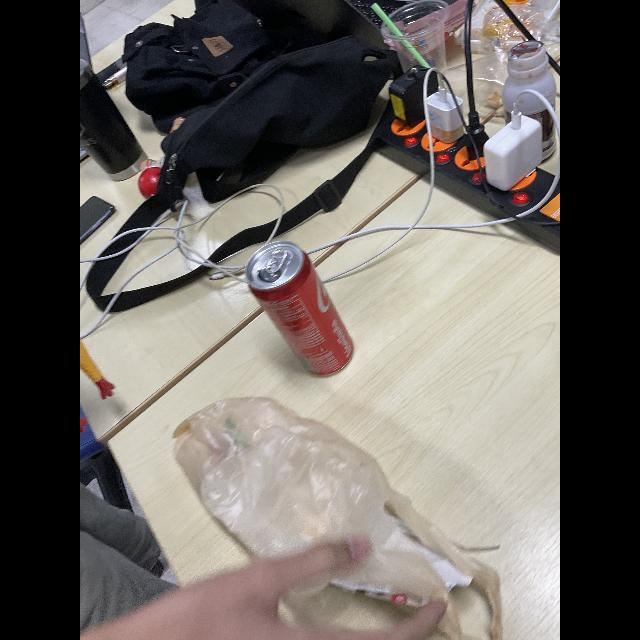can: (245, 240, 357, 378)
plastic_bag: (168, 396, 504, 640)
plastic_bottle: (503, 39, 559, 164)
plastic_box: (458, 0, 560, 56)
plastic_cup: (374, 0, 452, 104)
straw: (371, 4, 434, 74)
